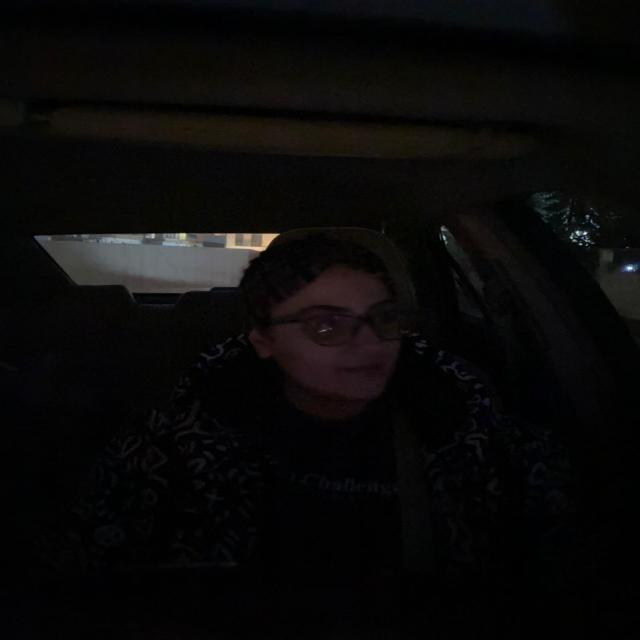person: (243, 222, 430, 415)
